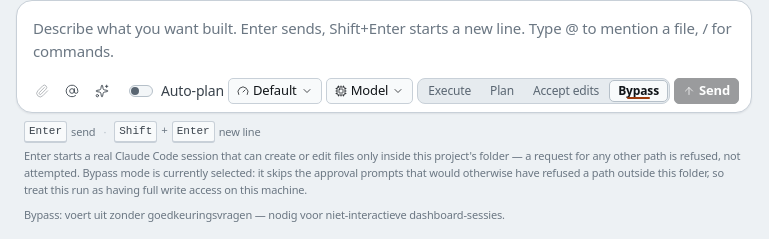
Composer send-mode/effort picker (composer-modes-ui) › shows an honest "plan mode has no tools" line once Plan is selected
Click the radio button labelled "Plan" at [502, 91], box [481,80,523,102]
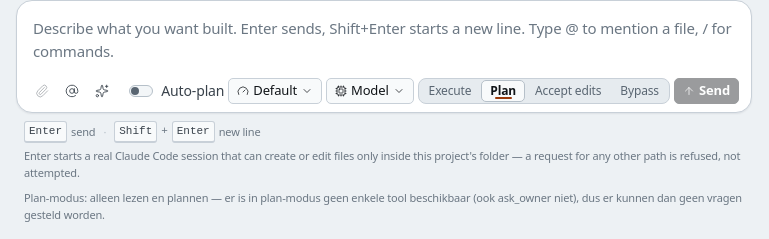
Now the text "geen enkele tool beschikbaar" is shown, box [24,190,742,222]
